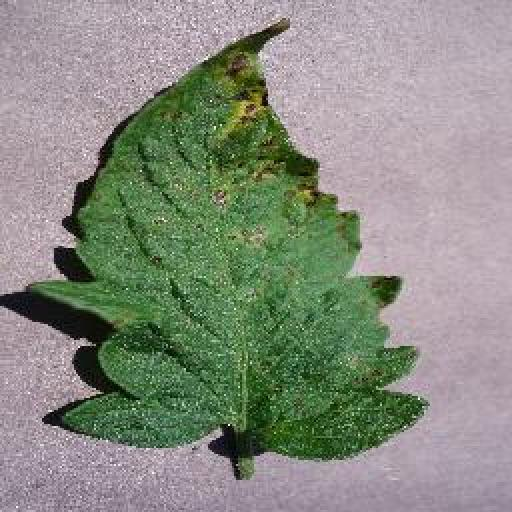Septoria: (23, 12, 430, 461)
